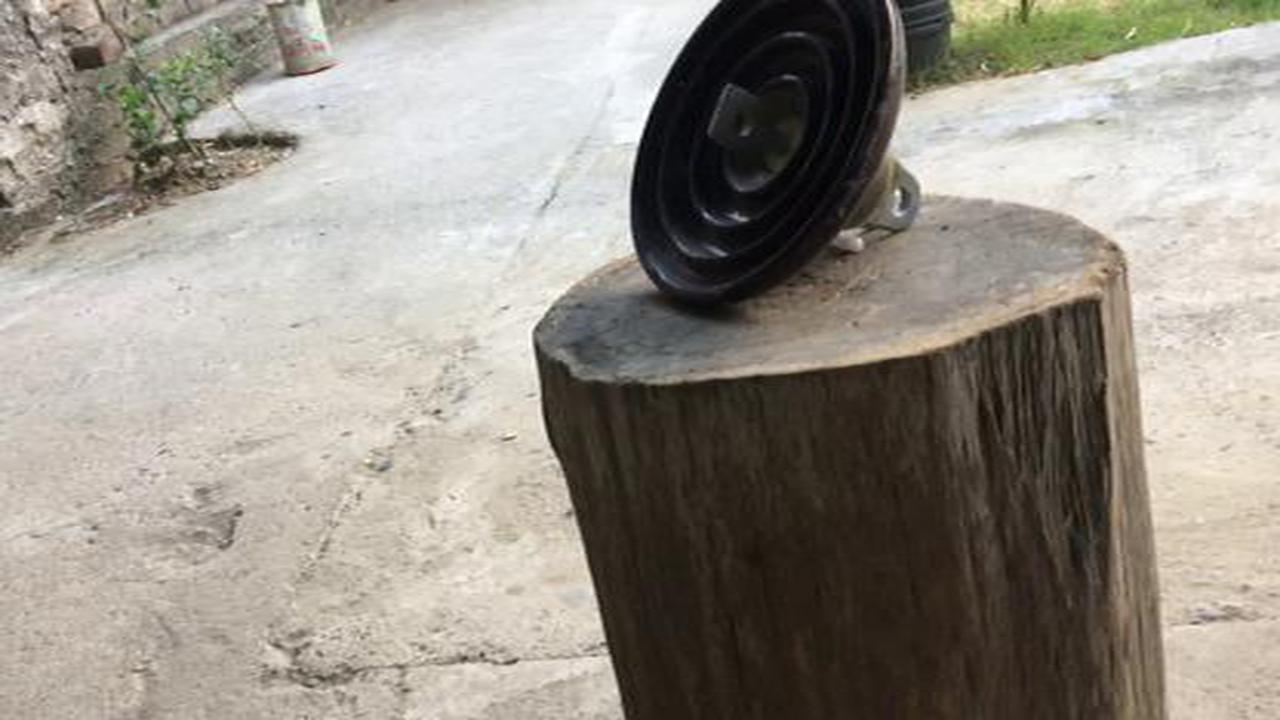insulator_disc: (628, 6, 932, 298)
